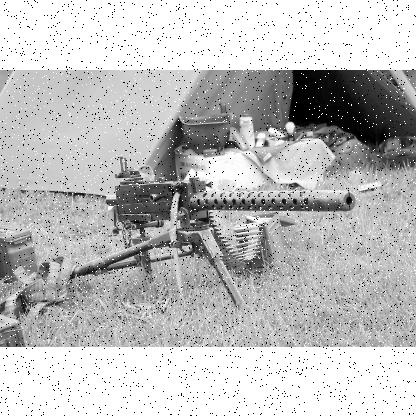gun: (64, 155, 356, 321)
